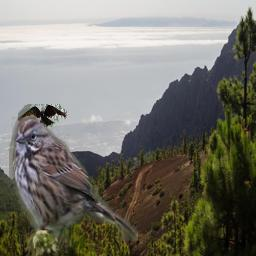Crow: (18, 104, 67, 130)
Sparrow: (8, 117, 138, 256)
